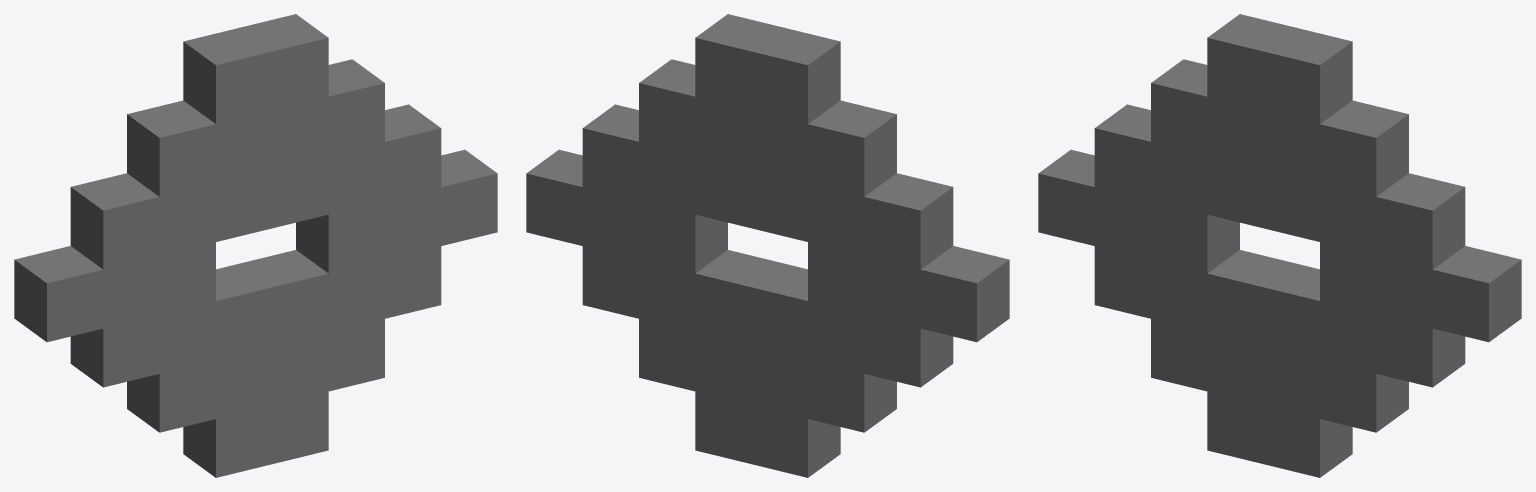
The model's file is metal collectible.vox.obj.
3 views of the same model, side by side, from view 1: azimuth 30°, elevation 25°; view 2: azimuth 150°, elevation 25°; view 3: azimuth 330°, elevation 25° (orthographic).
Bounding box in the file's own units: 0.8 × 0.7 × 0.1.
1 material, 1 textured.
